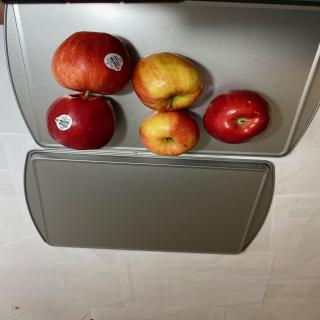Apple: (51, 31, 132, 95), (131, 52, 204, 112), (46, 91, 116, 150), (203, 89, 273, 144), (139, 110, 200, 156)
